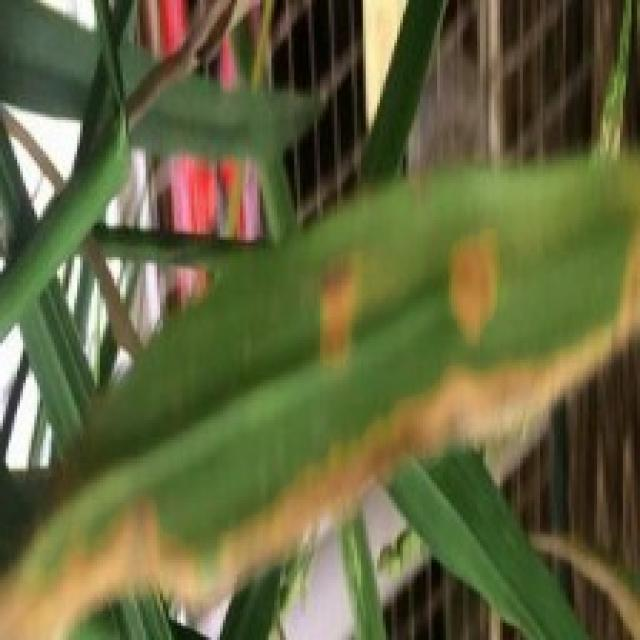Unhealthy: (0, 223, 640, 640), (315, 251, 361, 375), (448, 232, 497, 339)
